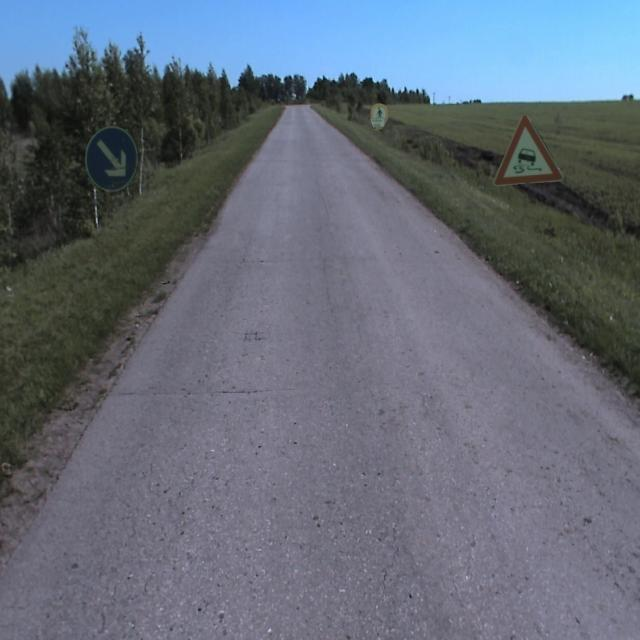road: (0, 107, 639, 639)
